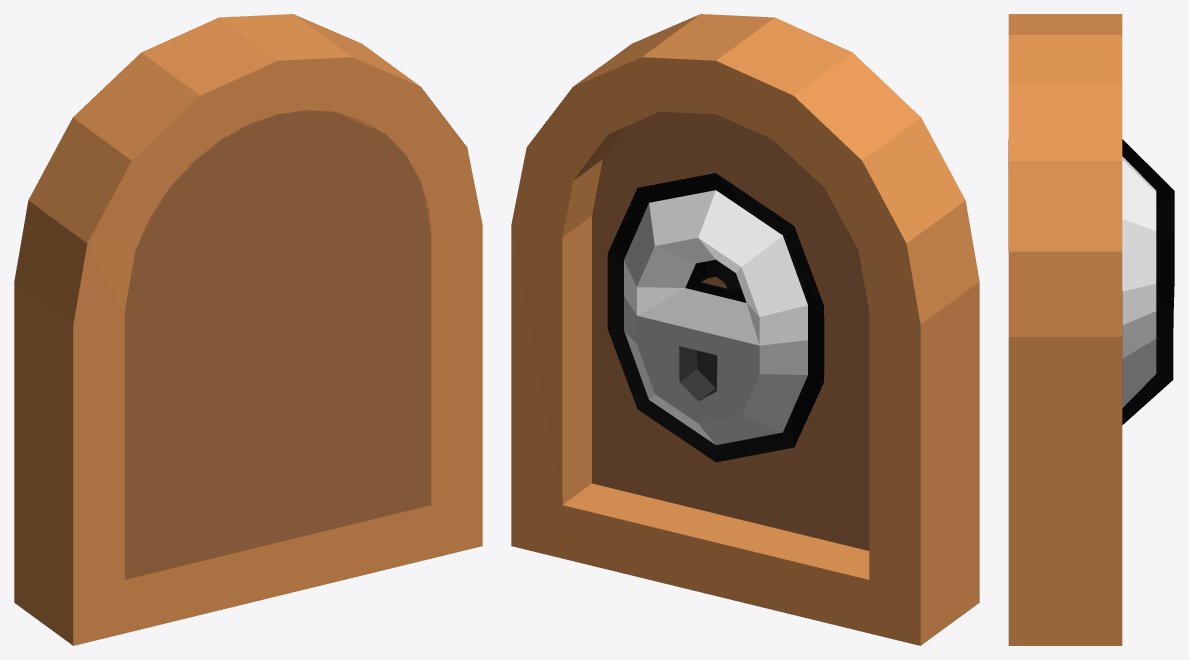
The model's file is Door.fbx.
The picture shows the model from 3 angles, left to right: view 1: azimuth 30°, elevation 25°; view 2: azimuth 150°, elevation 25°; view 3: azimuth 270°, elevation 25°; orthographic projection. The views are drawn at different scales.
Parts seen in each view (by area): view 1: Object_3, Object_2; view 2: Object_3, Object_2, Object_7, Object_5, Object_4, Object_1; view 3: Object_3, Object_4, Object_5, Object_7.
Boxes of the visible parts, x1=… form: Object_3: x1=14, y1=14, x2=482, y2=645; Object_2: x1=124, y1=110, x2=431, y2=579; Object_3: x1=511, y1=14, x2=979, y2=645; Object_2: x1=592, y1=111, x2=869, y2=550; Object_7: x1=624, y1=288, x2=807, y2=444; Object_5: x1=624, y1=190, x2=807, y2=345; Object_4: x1=607, y1=173, x2=824, y2=462; Object_1: x1=679, y1=346, x2=717, y2=401; Object_3: x1=1008, y1=14, x2=1122, y2=645; Object_4: x1=1122, y1=139, x2=1174, y2=424; Object_5: x1=1122, y1=156, x2=1156, y2=324; Object_7: x1=1122, y1=311, x2=1156, y2=407.
Size of the model in its own units: 2 by 2.5 by 0.7313.
